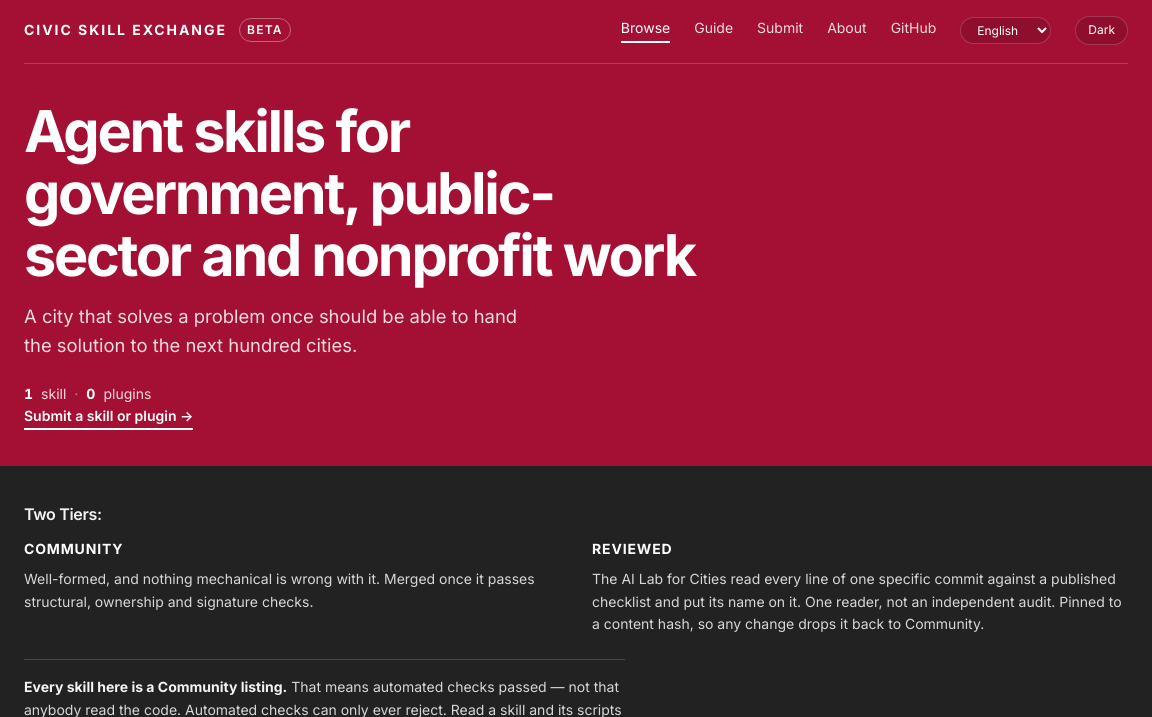
Test: the language switcher › puts the page in Spanish when Spanish is chosen
The image size is (1152, 717).
Select "Español" in the dropdown at (1006, 30), box [960,17,1051,44]
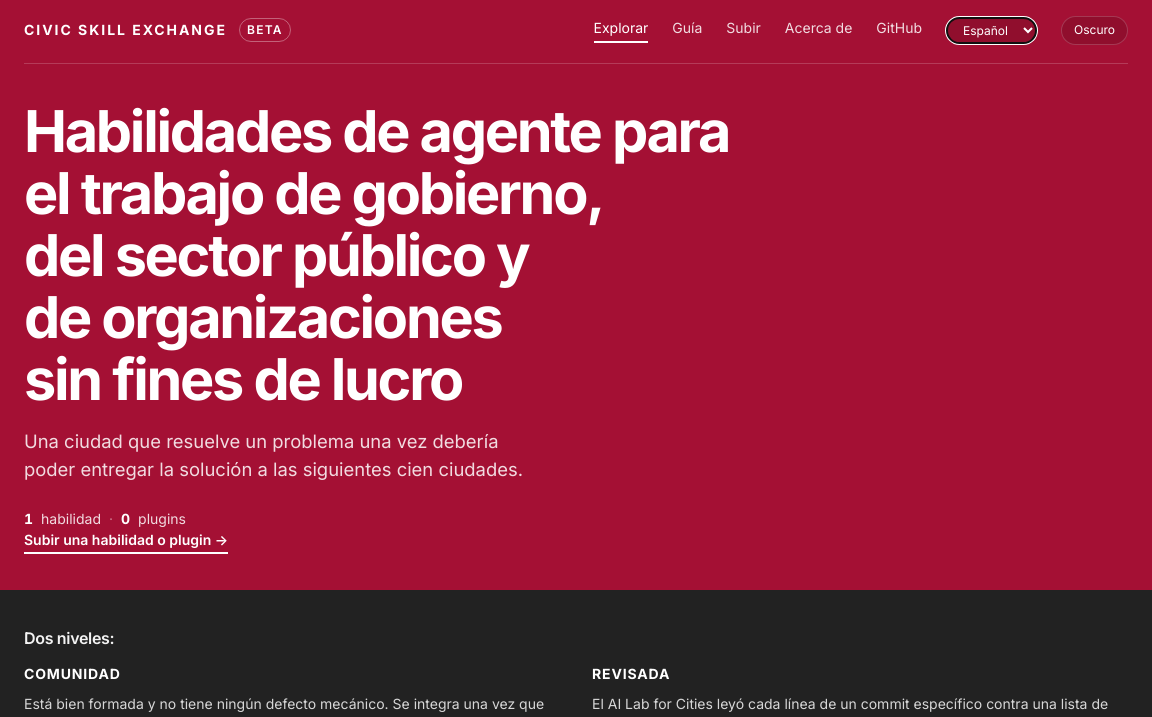
Check: the link "Browse" is gone
